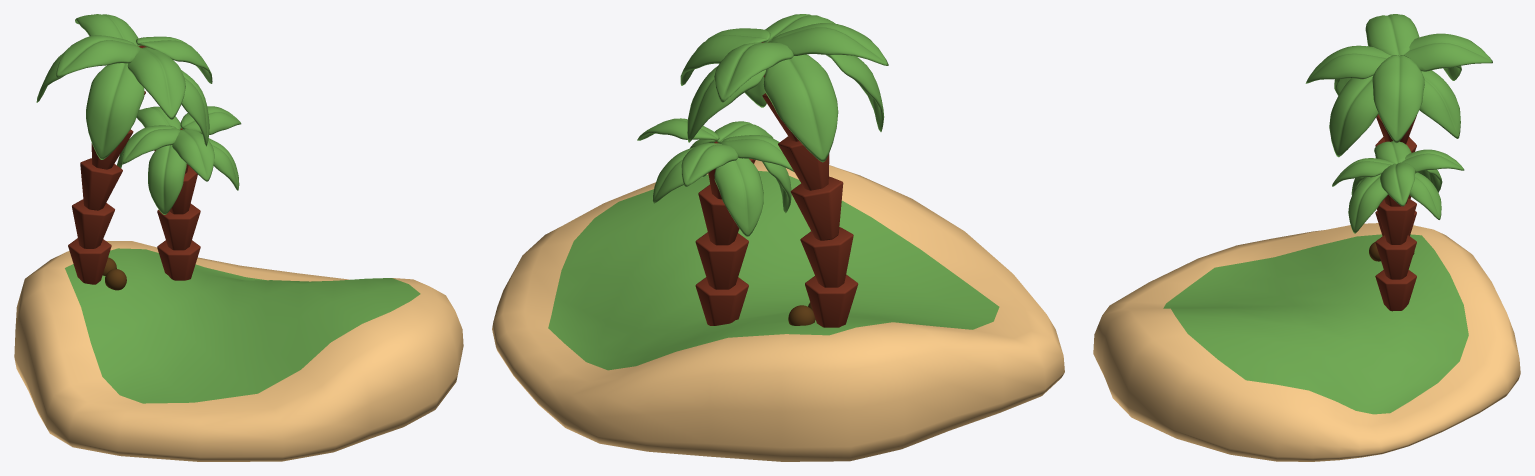
The model's file is island.fbx.
3 views of the same model, side by side, from view 1: azimuth 30°, elevation 25°; view 2: azimuth 150°, elevation 25°; view 3: azimuth 270°, elevation 25° (orthographic). The views are drawn at different scales.
Parts seen in each view (by area): view 1: Cube; view 2: Cube; view 3: Cube.
Boxes of the visible parts, x1,y1,x2,y2 form: Cube: (14,14,463,461); Cube: (492,14,1064,461); Cube: (1093,14,1520,461).
Size of the model in its own units: 1012 by 755 by 952.
